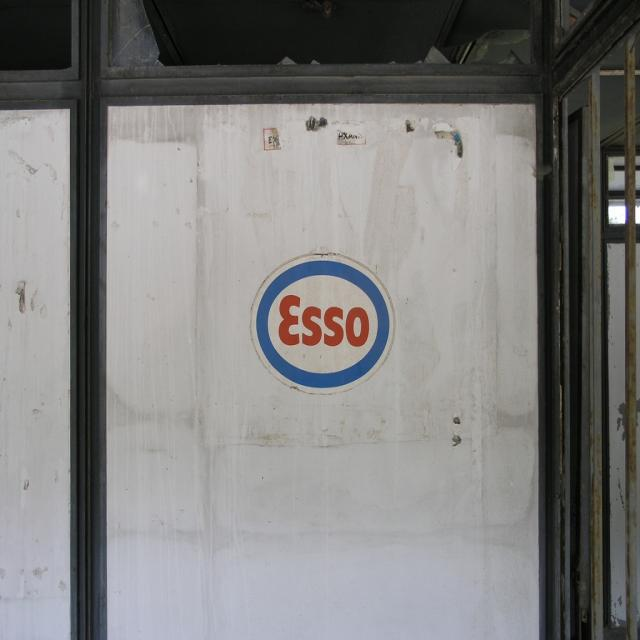esso: (253, 255, 395, 393)
